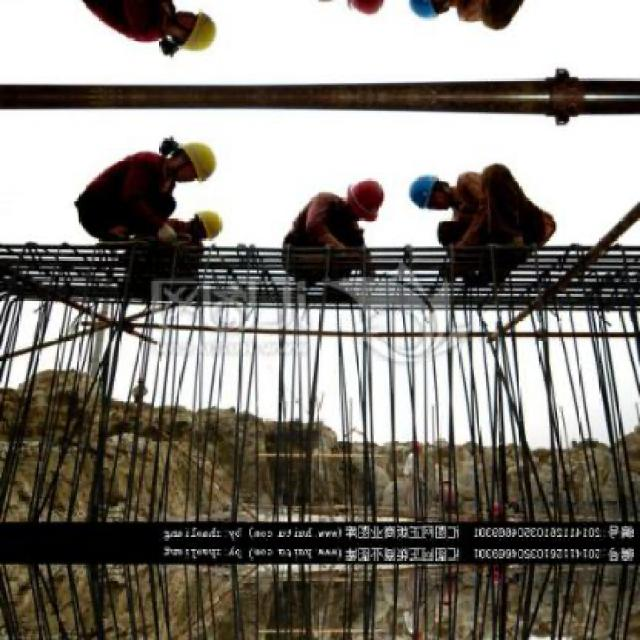helmet: (342, 177, 391, 220), (168, 12, 222, 51), (168, 142, 222, 180), (406, 172, 456, 210), (404, 0, 456, 20), (188, 210, 223, 238), (340, 0, 391, 15)
